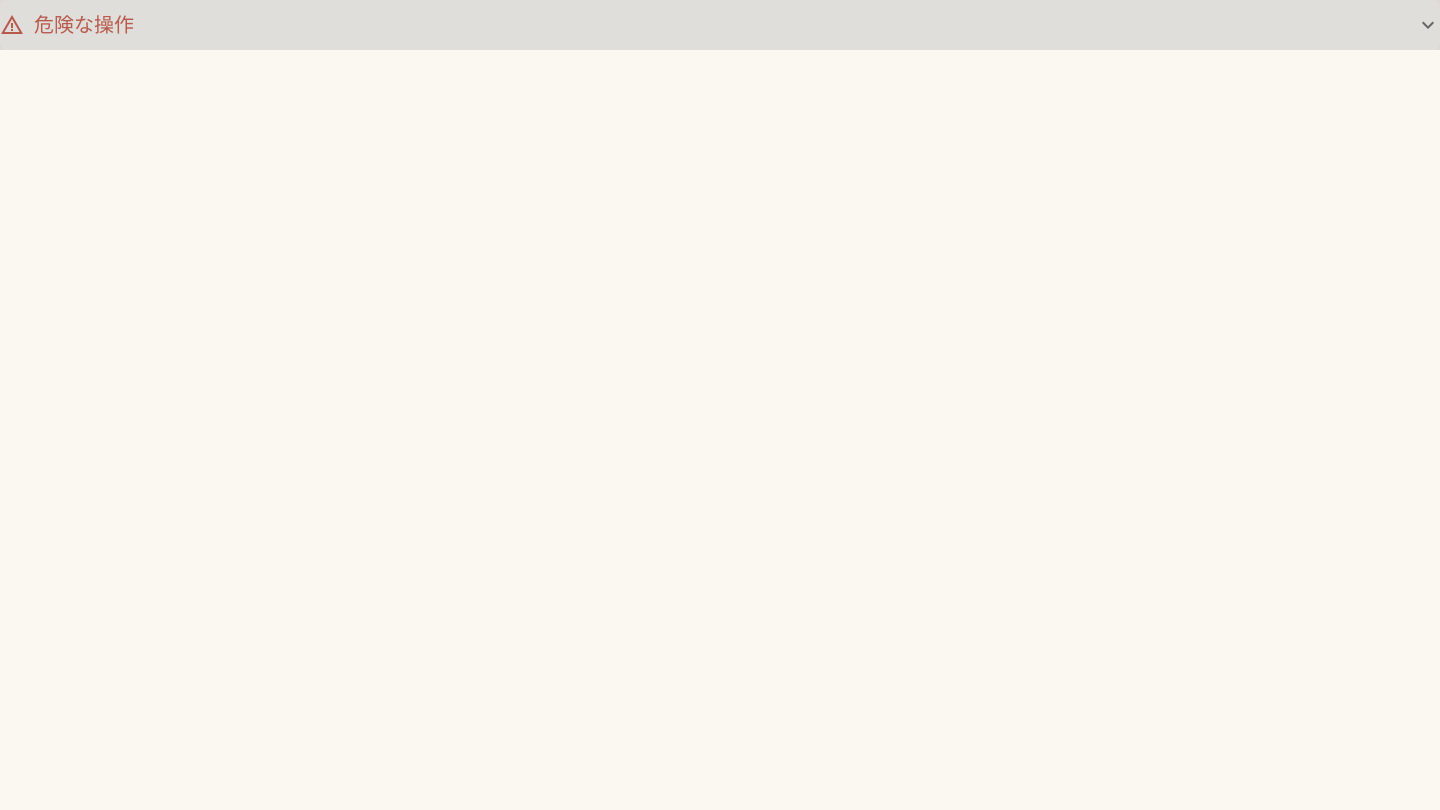
Test: GroupDangerZone › メンバー削除ボタンを押すと確認ダイアログを表示する
Press Enter
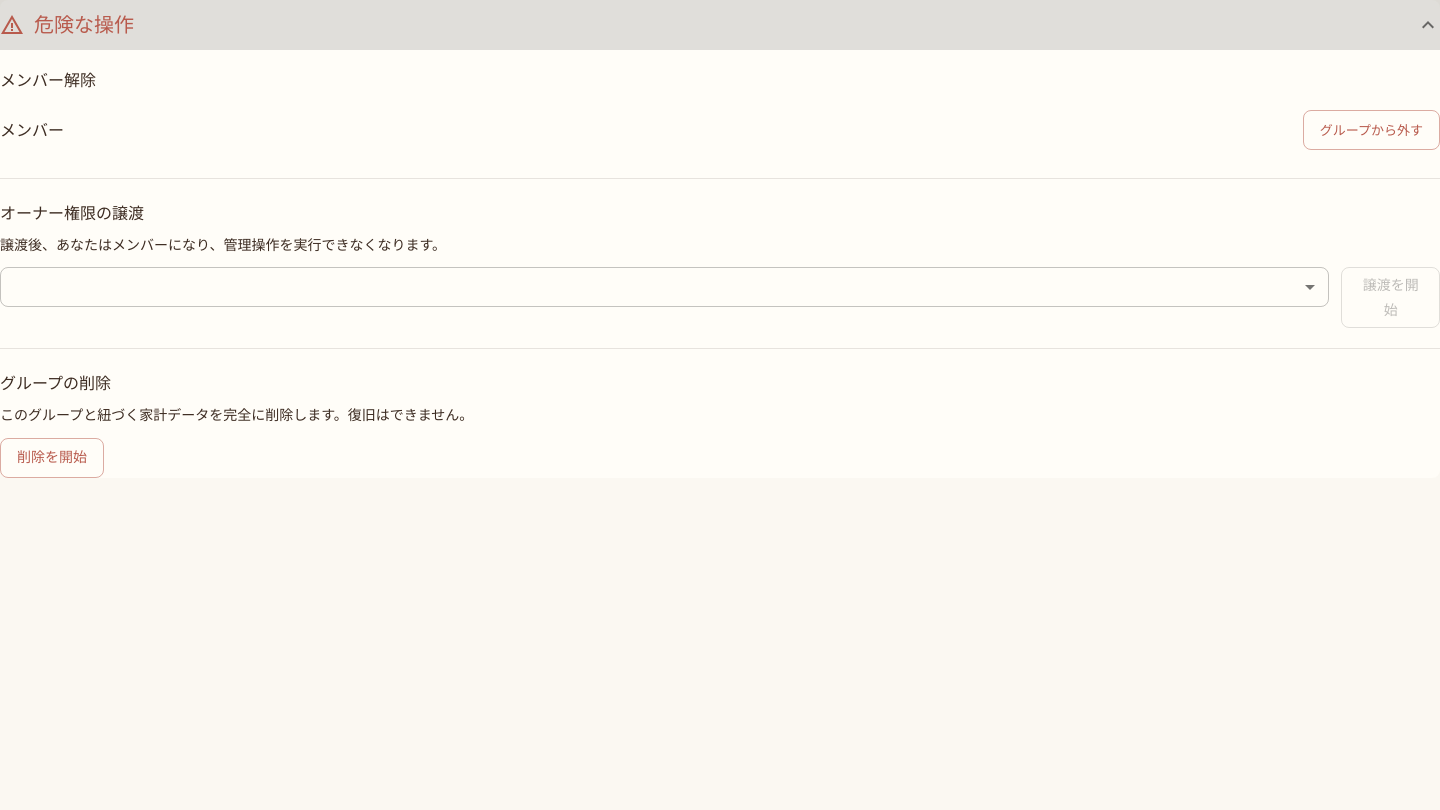
Click the button with aria-label "メンバーをグループから外す" at (1371, 130), box left=1303, top=110, right=1439, bottom=150
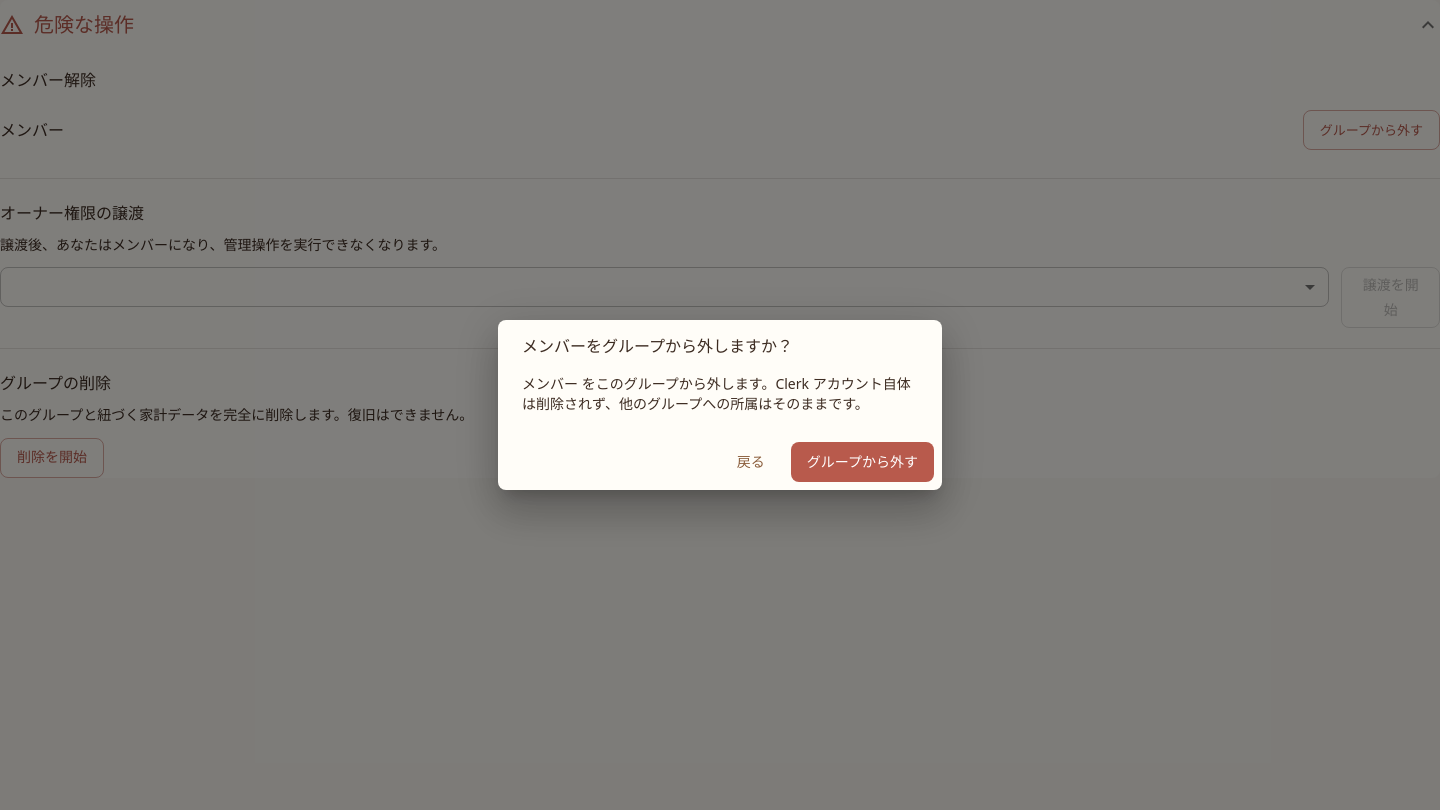
expect the dialog is shown: met, box left=498, top=320, right=942, bottom=490
expect the heading "メンバーをグループから外しますか？" is shown: met, box left=522, top=335, right=793, bottom=357
